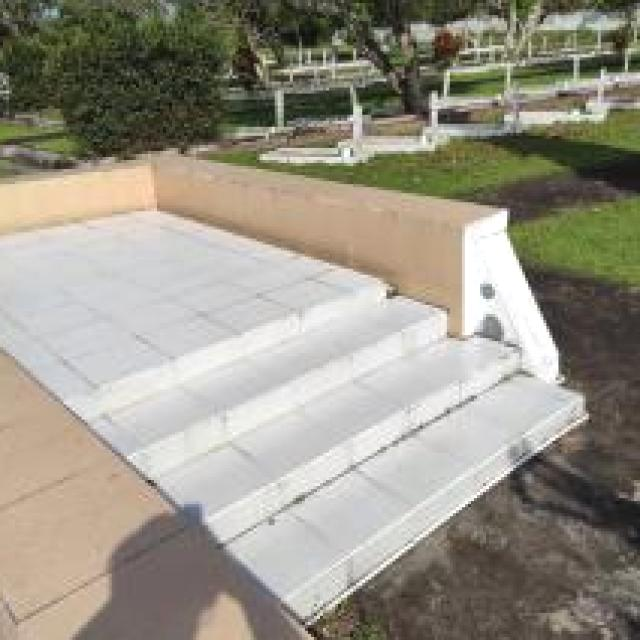upstair: (170, 276, 596, 620)
